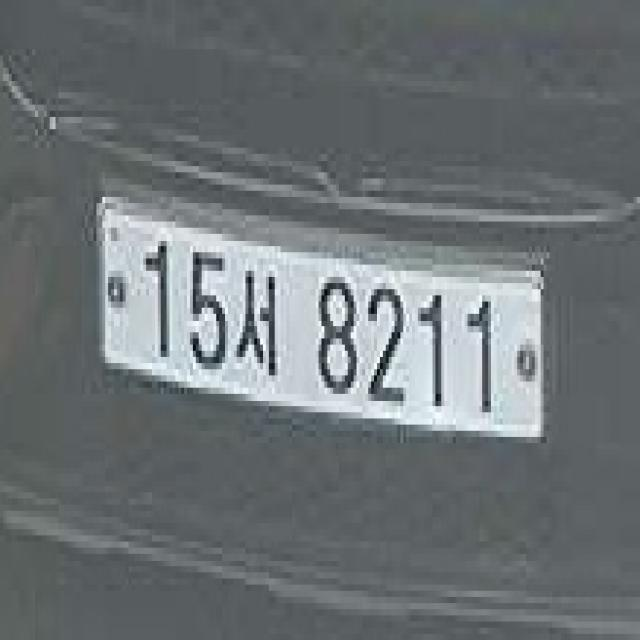1: (462, 283, 506, 431), (138, 222, 178, 376), (412, 290, 456, 418)
2: (360, 277, 412, 418)
5: (187, 234, 231, 381)
8: (313, 265, 362, 412)
license_plate: (85, 172, 552, 468)
seo: (233, 252, 280, 394)
